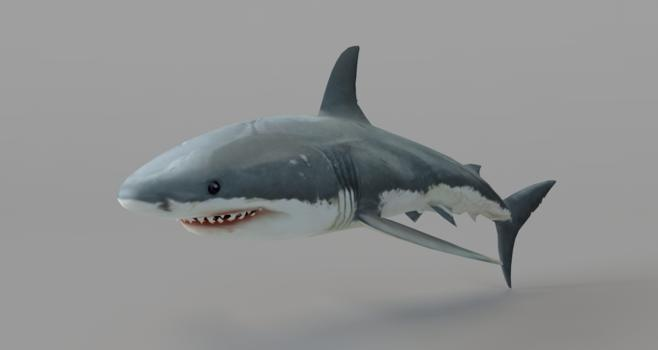fish: (104, 42, 564, 289)
